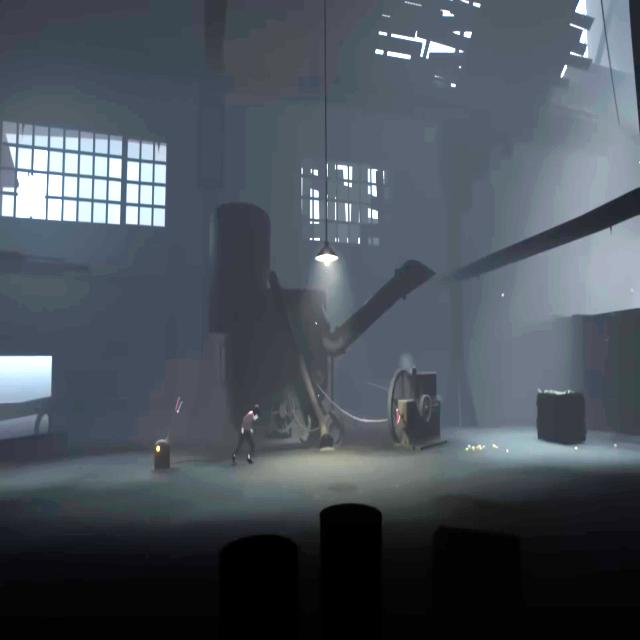boy: (231, 405, 259, 463)
